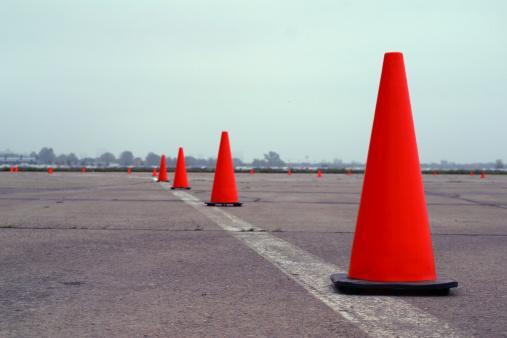Cone: (340, 51, 446, 290), (210, 132, 241, 204), (175, 147, 189, 189), (159, 154, 166, 181)
